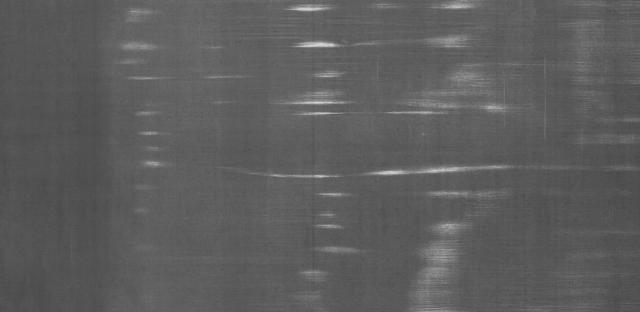waist_folding: (71, 31, 545, 264)
